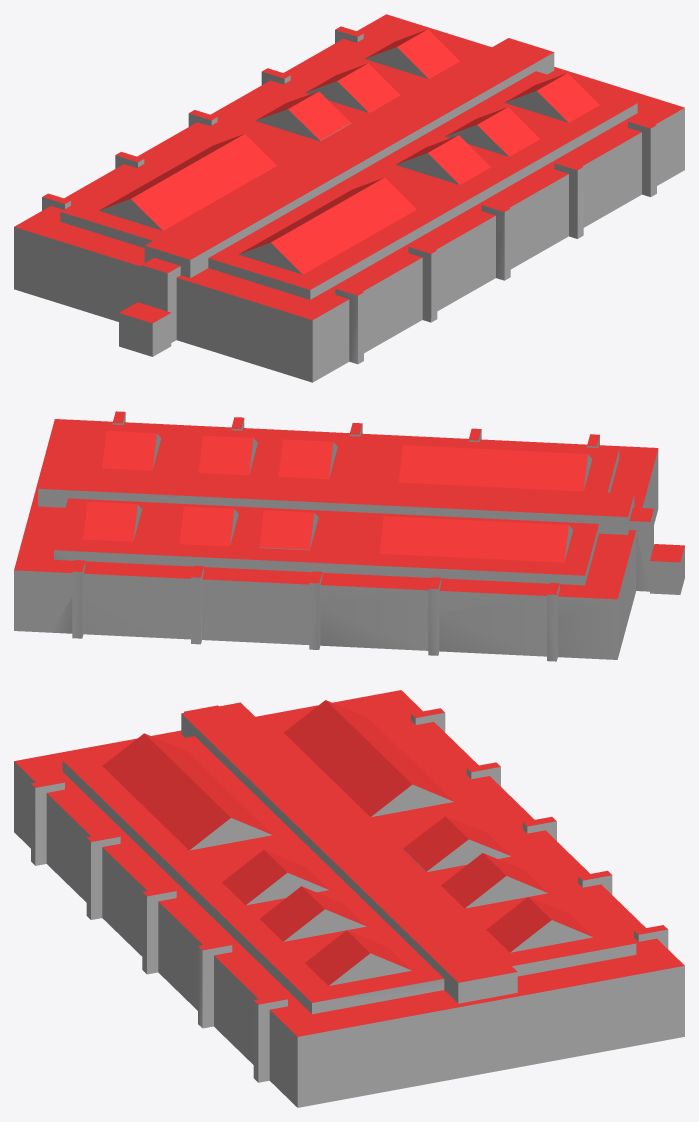
3 renders of one model, top to bottom at view 1: azimuth 30°, elevation 25°; view 2: azimuth 150°, elevation 25°; view 3: azimuth 270°, elevation 25°, orthographic. The views are drawn at different scales.
Bounding box in the file's own units: 254 × 207 × 36.6.
